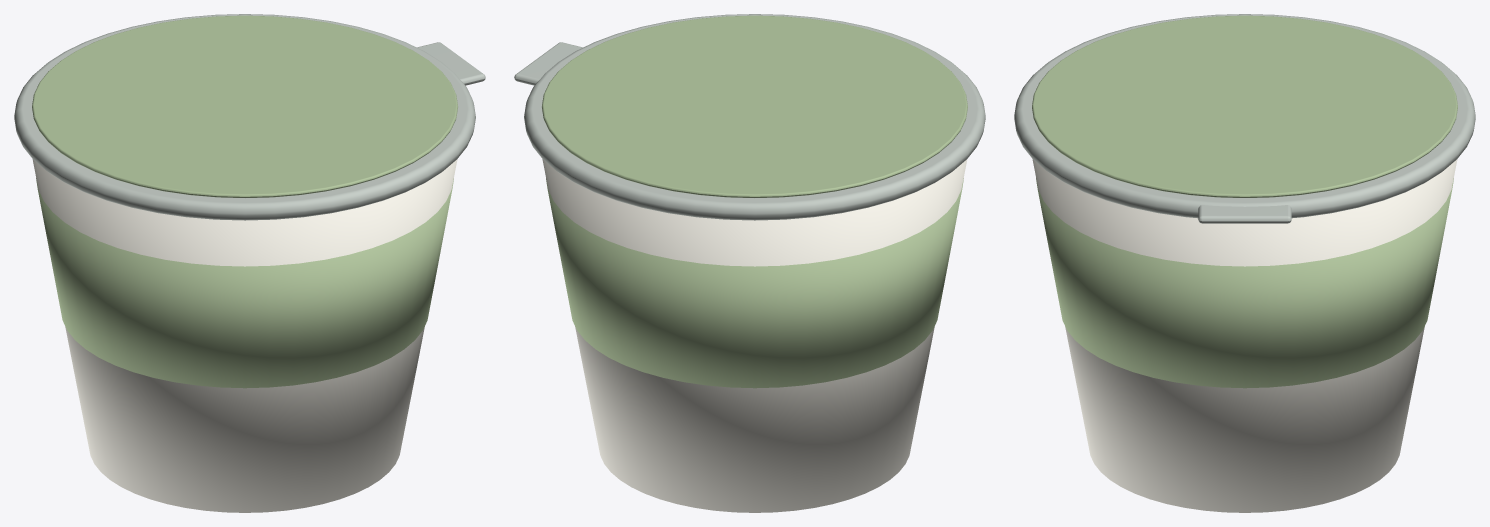
The model's file is yogurt.glb.
3 views of the same model, side by side, from view 1: azimuth 30°, elevation 25°; view 2: azimuth 150°, elevation 25°; view 3: azimuth 270°, elevation 25° (orthographic).
Parts seen in each view (by area): view 1: sage paper sleeve, tapered yogurt cup, foil lid; view 2: sage paper sleeve, tapered yogurt cup, foil lid; view 3: sage paper sleeve, tapered yogurt cup, foil lid.
Part boxes in pixels (bbox=[...]): sage paper sleeve: bbox=[32, 15, 457, 388]; tapered yogurt cup: bbox=[32, 159, 457, 512]; foil lid: bbox=[14, 14, 485, 220]; sage paper sleeve: bbox=[542, 15, 967, 388]; tapered yogurt cup: bbox=[542, 159, 967, 512]; foil lid: bbox=[514, 14, 985, 220]; sage paper sleeve: bbox=[1032, 15, 1457, 388]; tapered yogurt cup: bbox=[1032, 159, 1457, 512]; foil lid: bbox=[1014, 14, 1475, 223].
Bounding box in the file's own units: 0.465 × 0.363 × 0.444.
